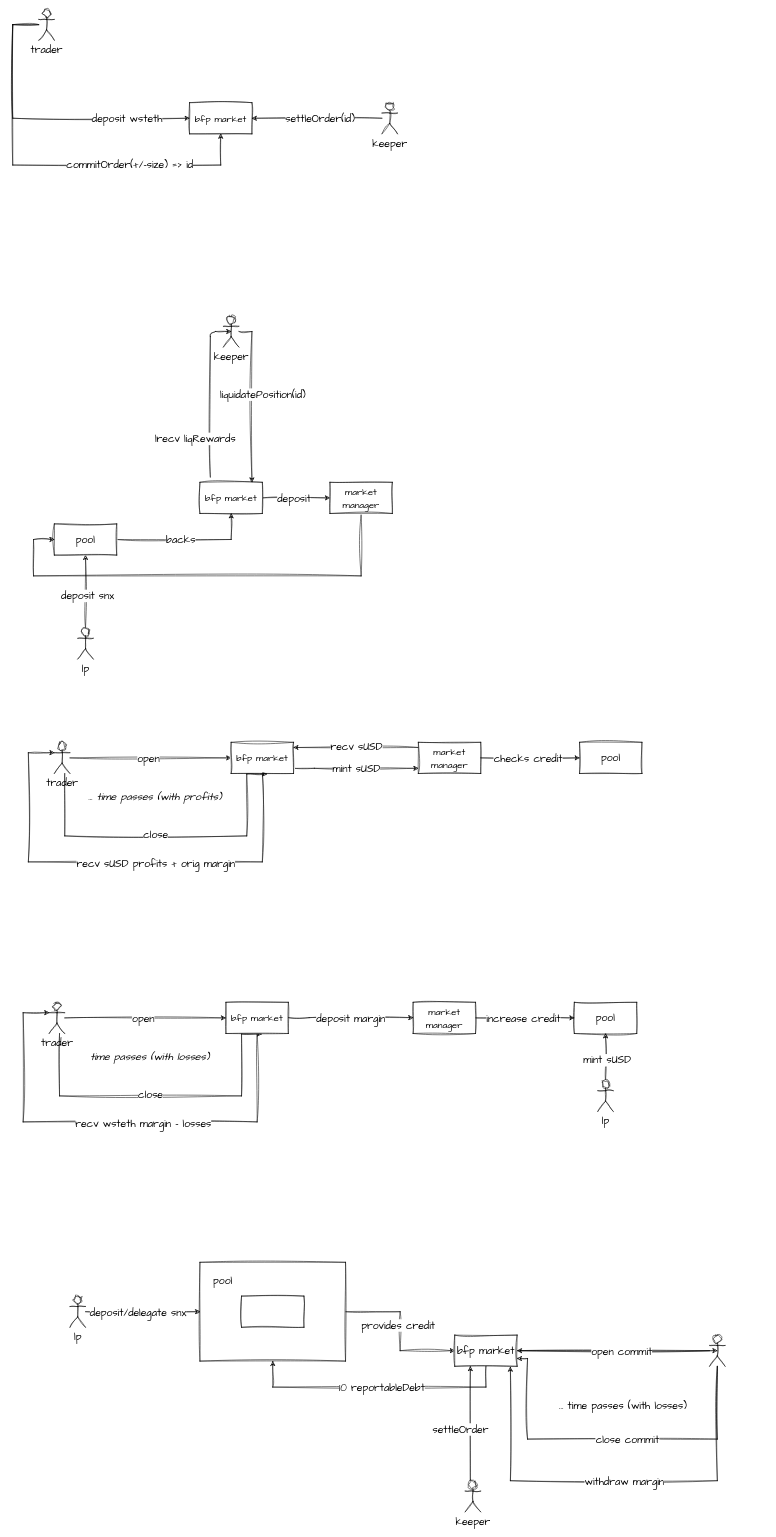
The diagram is 776 pixels wide and 1537 high, and some of its shapes have lost their labels. Each missing label, with the centre of its shape:
snx vault: the point at 272,1311
trader (with wsteth): the point at 717,1350
